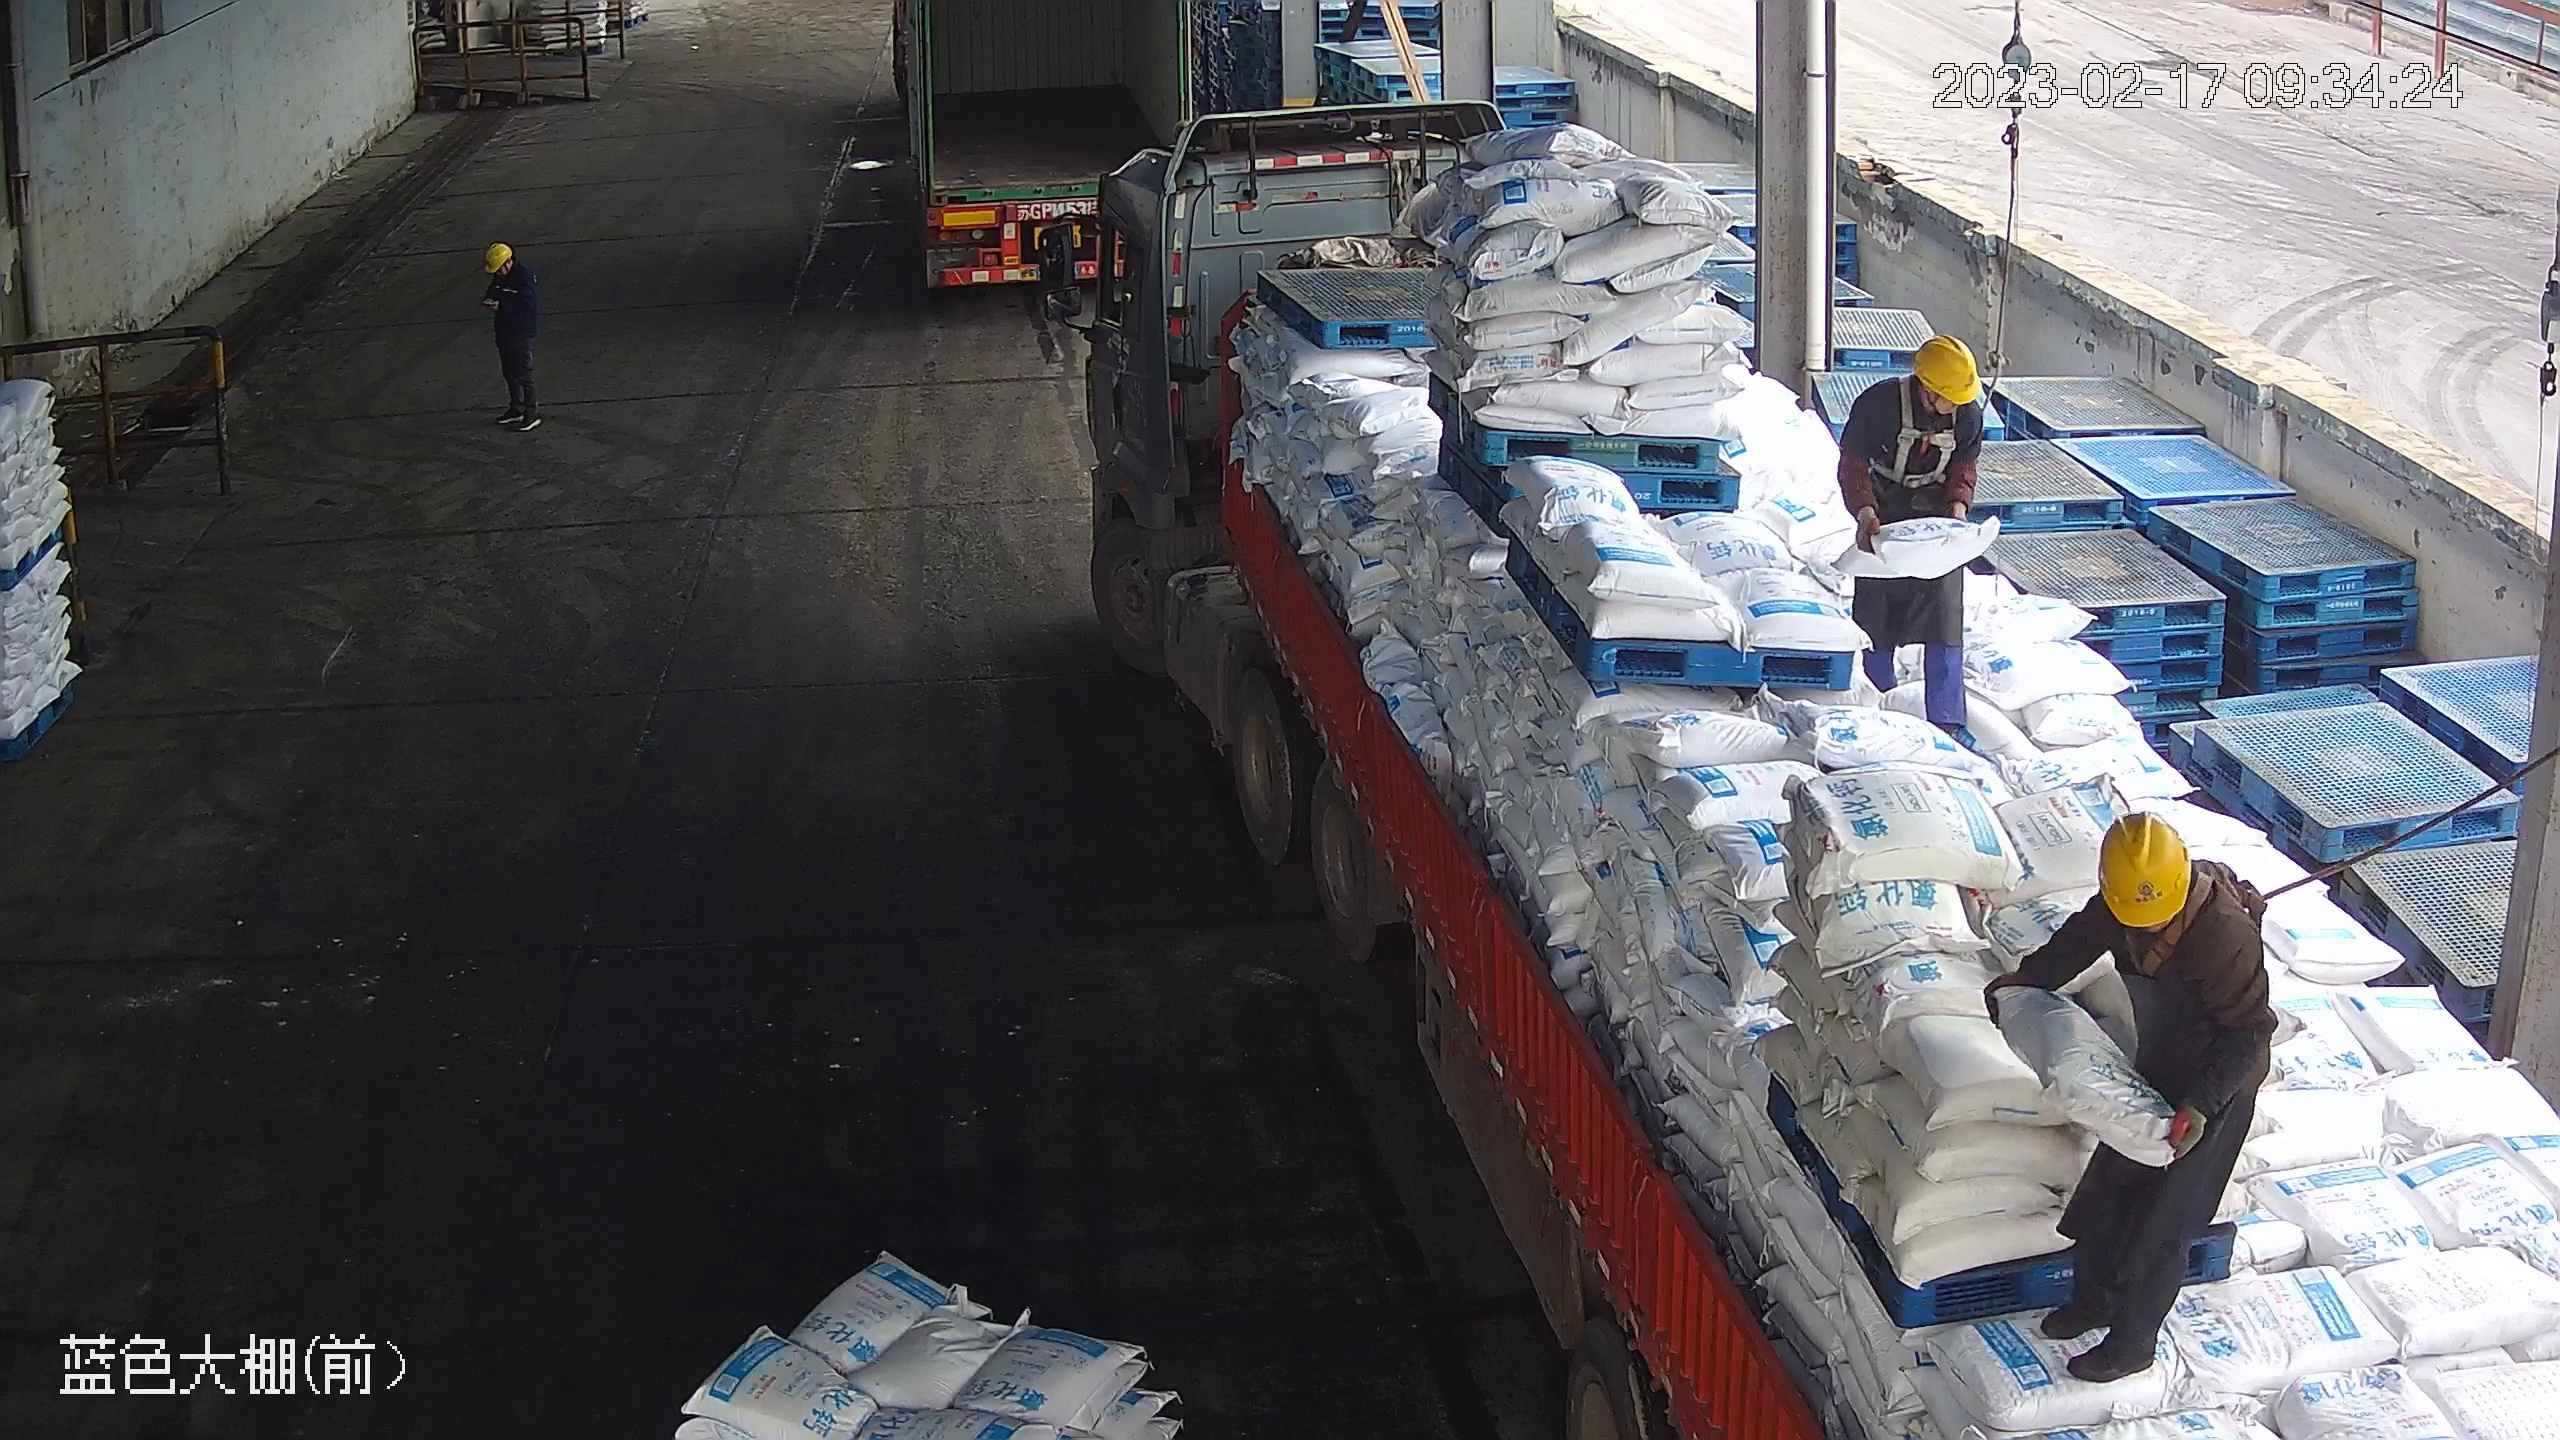belt: (2121, 868, 2254, 981), (1883, 390, 1957, 486)
head: (2066, 811, 2257, 990), (1857, 334, 1983, 443), (481, 240, 534, 295)
helmet: (2096, 810, 2191, 927), (1911, 332, 1983, 408), (484, 241, 512, 267)
people: (1986, 808, 2278, 1388), (1835, 333, 1988, 736), (479, 239, 545, 434)
truck: (1040, 122, 2554, 1437), (885, 1, 1194, 295)
